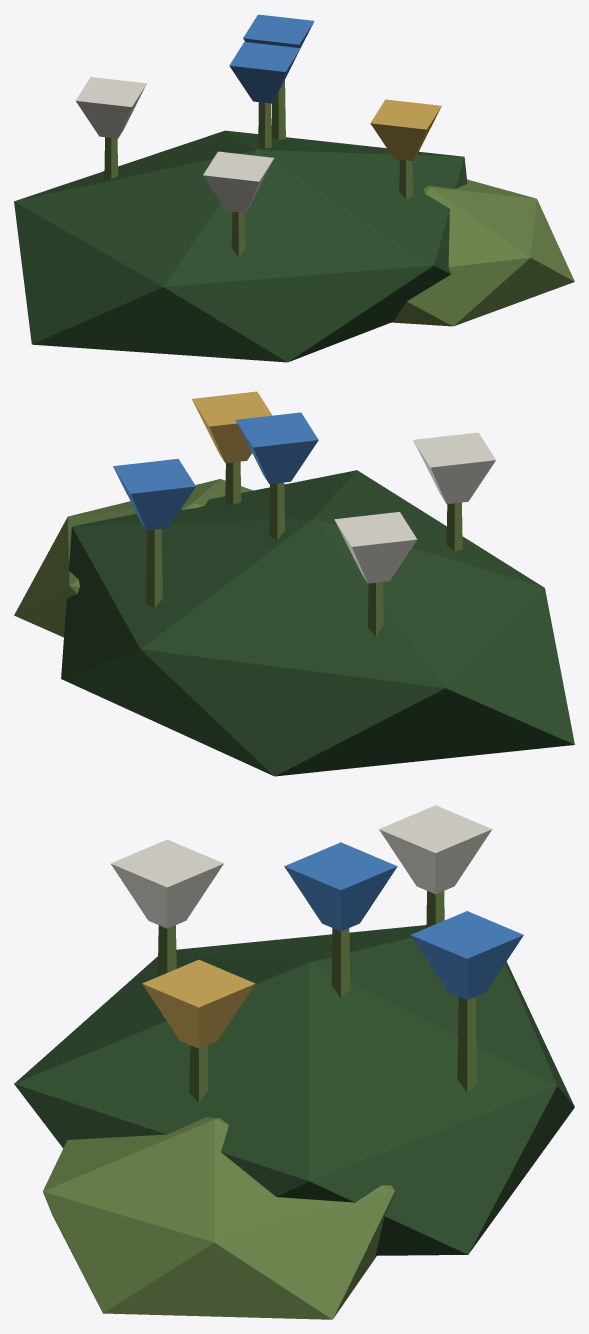
Rendered from alpine_flowers.glb.
3 renders of one model, top to bottom at view 1: azimuth 30°, elevation 25°; view 2: azimuth 150°, elevation 25°; view 3: azimuth 270°, elevation 25°, orthographic. The views are drawn at different scales.
Parts seen in each view (by area): view 1: alpine_flowers; view 2: alpine_flowers; view 3: alpine_flowers.
Part boxes in pixels (<box>): alpine_flowers: <box>14,14,574,362</box>; alpine_flowers: <box>14,391,574,776</box>; alpine_flowers: <box>14,805,574,1319</box>.
Bounding box in the file's own units: 0.477 × 0.2402 × 0.3554.
Materials: 2 (2 with a texture image).
